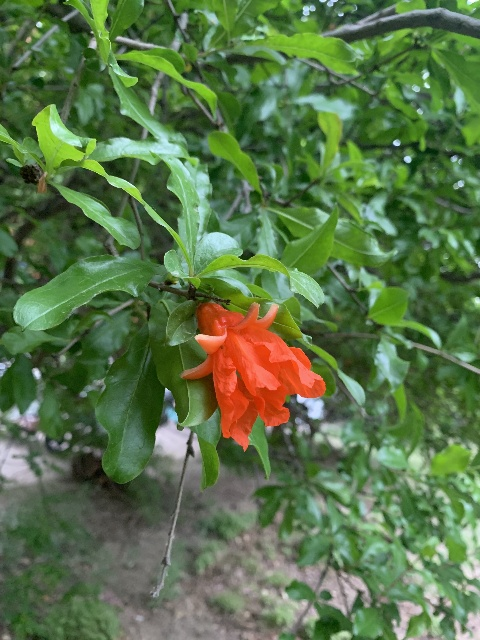flower: (180, 300, 325, 451)
